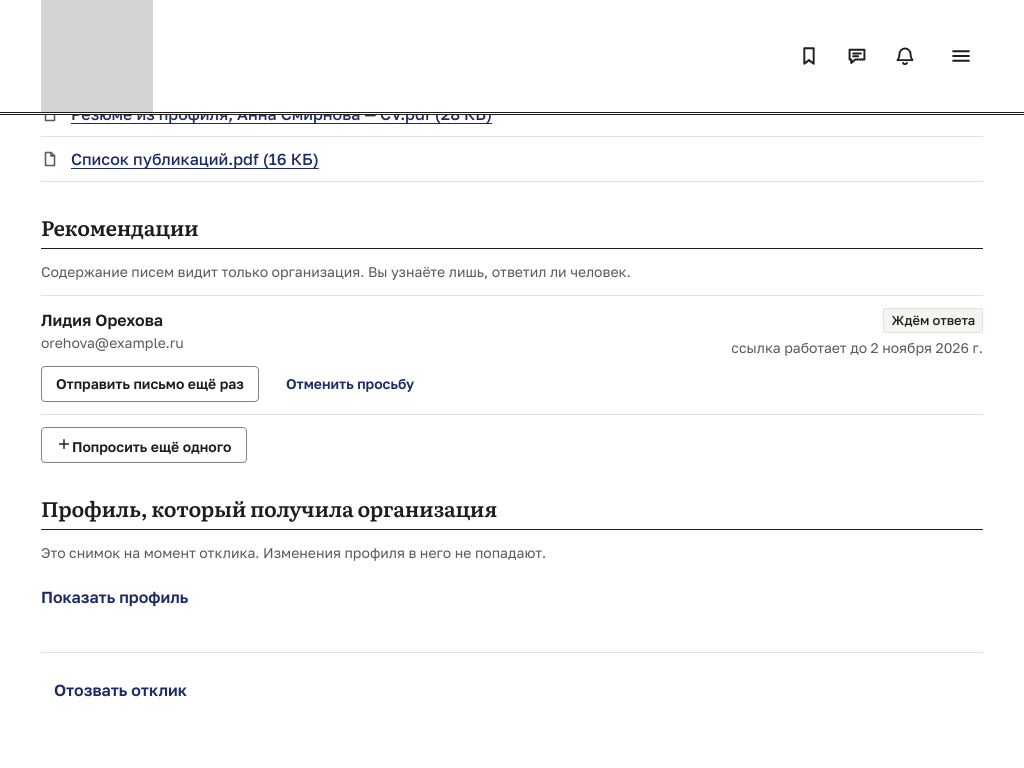
it: recommendations on the application page › resends the request when the pause is over, and shows a failure
(page scrolled)
What coordinates should you click on to do the following:
click the button "Отправить письмо ещё раз"
I would click on:
 (150, 384)
Its box is [41, 366, 259, 402].
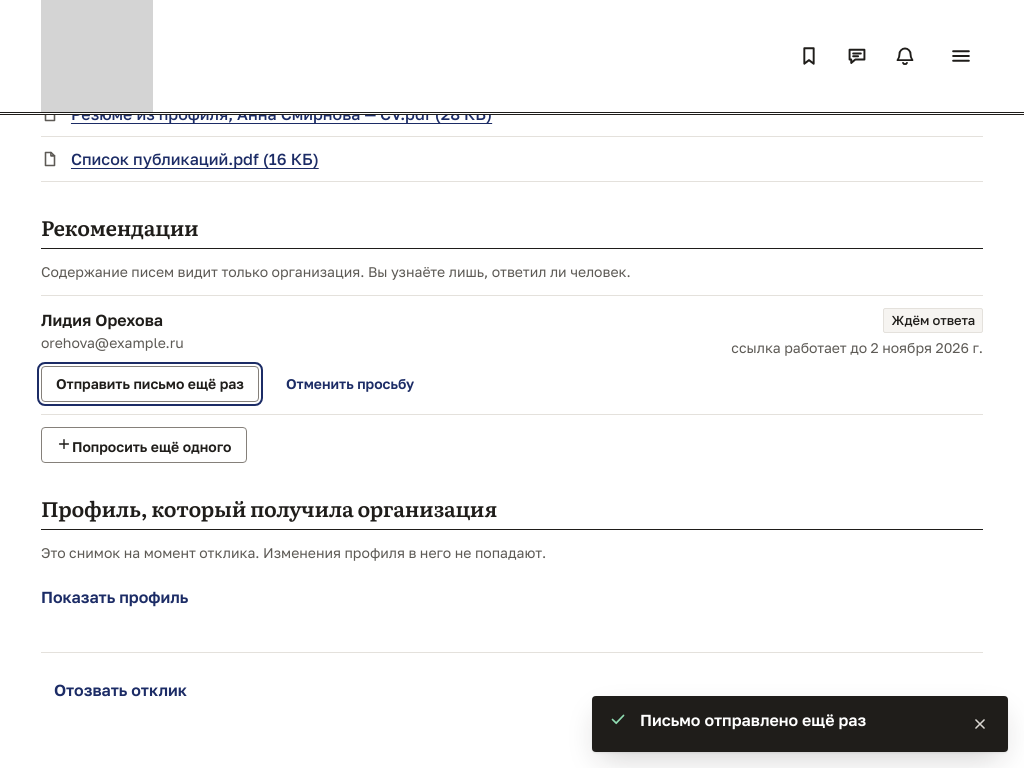
Expected: the text "Письмо отправлено ещё раз" is shown, [640, 710, 866, 730]
What coordinates should you click on to do the following:
click the button "Отправить письмо ещё раз"
I would click on:
 (150, 384)
Its box is [41, 366, 259, 402].
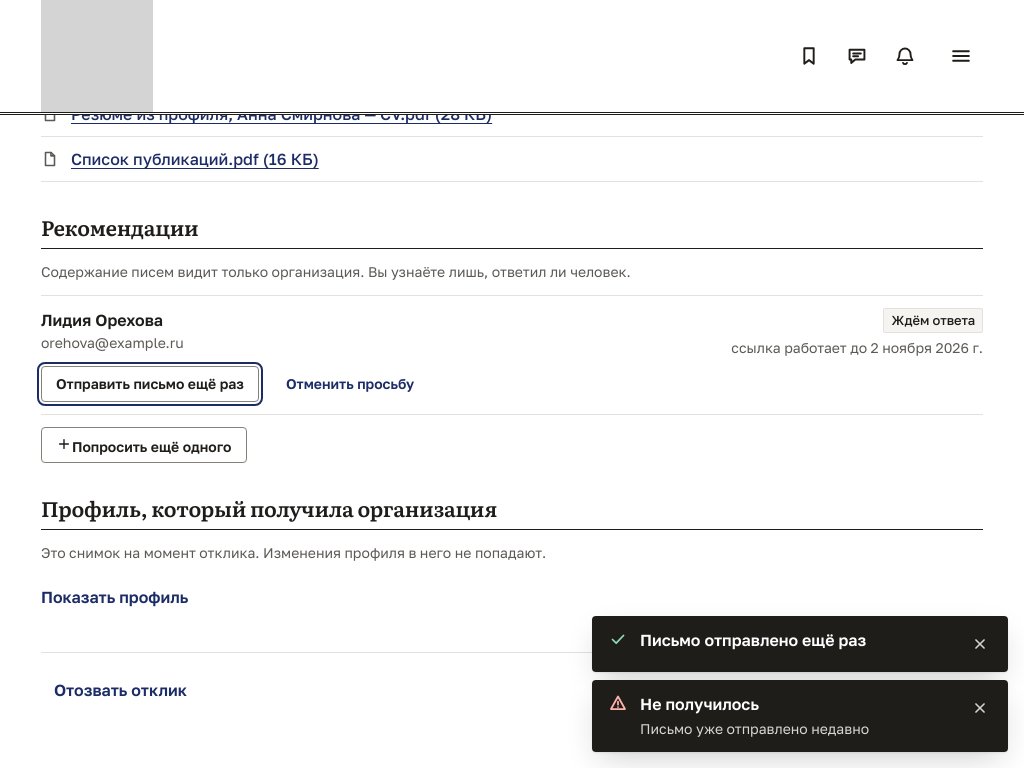
Expected: the text "Не получилось" is shown, [640, 694, 759, 714]
Expected: the text "Письмо уже отправлено недавно" is shown, [640, 720, 869, 737]
